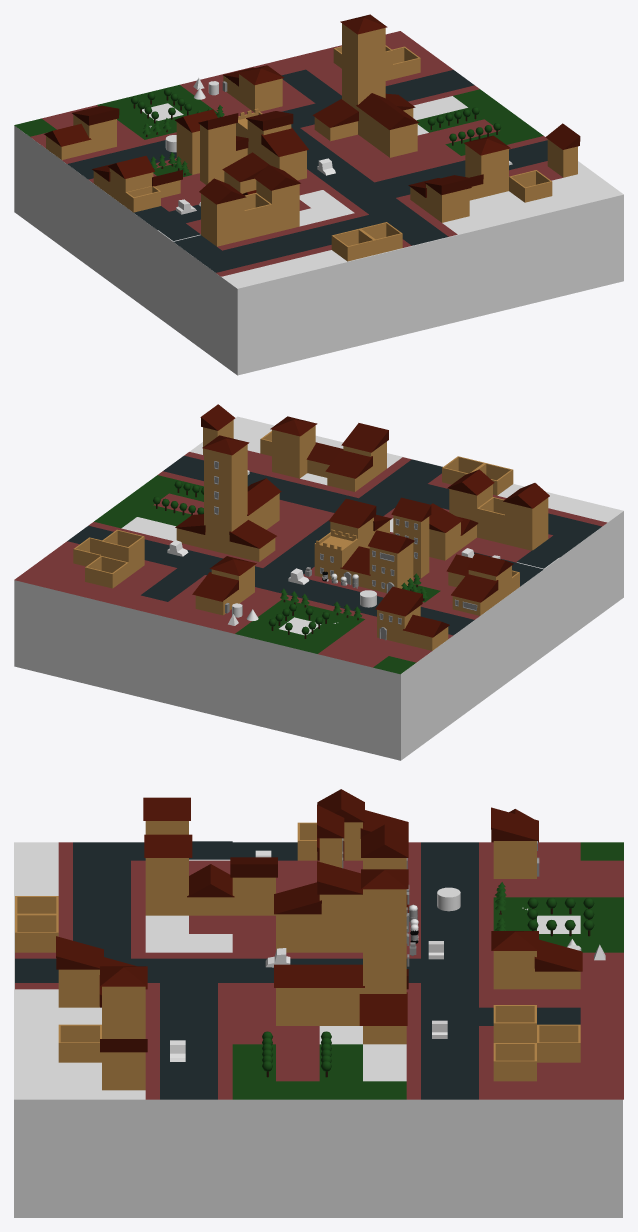
The model's file is test_entirescene_01.FBX.
3 views of the same model, one above another, from view 1: azimuth 30°, elevation 25°; view 2: azimuth 150°, elevation 25°; view 3: azimuth 270°, elevation 25° (orthographic). The views are drawn at different scales.
Parts seen in each view (by area): view 1: Box035, Plane183, Plane188, Box070, Plane182, Box050, Box159, Plane166, Plane225, Plane160, Box163, Box169 (+36 smaller); view 2: Box035, Plane158, Plane161, Box064, Box083, Box075, Box080, Box074, Box053, Box050, Plane225, Plane182 (+37 smaller); view 3: Box035, Plane158, Plane160, Plane188, Plane161, Plane182, Box069, Box075, Box083, Box038, Box070, Box053 (+152 smaller).
Part boxes in pixels (bbox=[...]): Box035: bbox=[14, 96, 623, 375]; Plane183: bbox=[331, 229, 375, 261]; Plane188: bbox=[509, 170, 552, 202]; Box070: bbox=[261, 127, 308, 156]; Plane182: bbox=[359, 222, 402, 254]; Box050: bbox=[312, 99, 358, 127]; Box159: bbox=[222, 152, 269, 181]; Plane166: bbox=[125, 186, 160, 212]; Plane225: bbox=[244, 193, 271, 225]; Plane160: bbox=[392, 46, 420, 79]; Box163: bbox=[199, 178, 246, 204]; Box169: bbox=[254, 165, 300, 190]; Box035: bbox=[14, 416, 623, 760]; Plane158: bbox=[85, 556, 128, 588]; Plane161: bbox=[101, 529, 144, 562]; Box064: bbox=[328, 498, 376, 528]; Box083: bbox=[375, 586, 422, 616]; Box075: bbox=[341, 423, 388, 452]; Box080: bbox=[451, 573, 498, 602]; Box074: bbox=[325, 449, 372, 478]; Box053: bbox=[192, 572, 238, 601]; Box050: bbox=[229, 520, 276, 548]; Plane225: bbox=[477, 497, 504, 529]; Plane182: bbox=[442, 456, 484, 484]; Box035: bbox=[14, 842, 622, 1217]; Plane158: bbox=[537, 1024, 580, 1062]; Plane160: bbox=[493, 1043, 536, 1081]; Plane188: bbox=[58, 1024, 101, 1062]; Plane161: bbox=[493, 1005, 536, 1042]; Plane182: bbox=[15, 914, 58, 952]; Box069: bbox=[359, 992, 407, 1025]; Box075: bbox=[56, 936, 103, 969]; Box083: bbox=[491, 807, 538, 840]; Box038: bbox=[361, 824, 408, 857]; Box070: bbox=[274, 882, 321, 914]; Box053: bbox=[534, 939, 582, 971].
Size of the model in its own units: 14.05 by 6.73 by 14.02.
